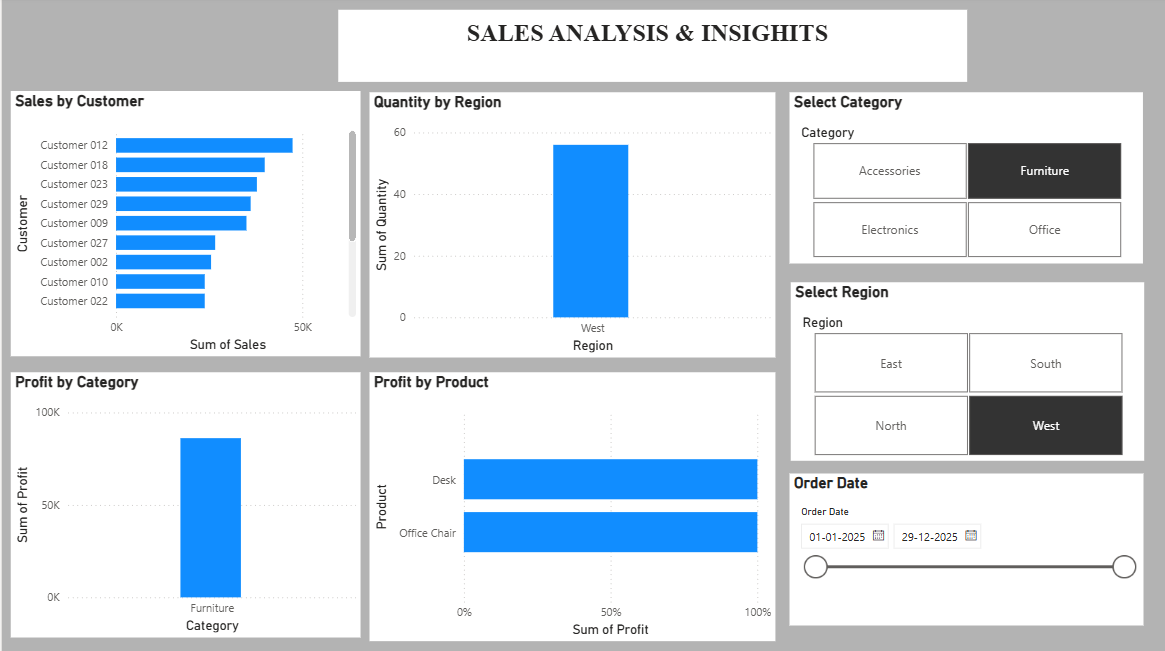

The dashboard page shown, as its layout file describes it:
{"tool":"powerbi","page":{"name":"Page 2","canvas":[1280,720],"ordinal":1},"visuals":[{"type":"clusteredBarChart","title":"Sales by Customer","fields":{"Category":["Sales Data.Customer"],"Y":["Sum(Sales Data.Sales)"]},"box":[9.6,104.3,384.2,290.9],"z":0},{"type":"clusteredColumnChart","title":"Profit by Category","fields":{"Category":["Sales Data.Category"],"Y":["Sum(Sales Data.Profit)"]},"box":[9.6,413,384.2,290.9],"z":1000},{"type":"clusteredColumnChart","title":"Quantity by Region","fields":{"Category":["Sales Data.Region"],"Y":["Sum(Sales Data.Quantity)"]},"box":[403.4,105.7,446,290.9],"z":2000},{"type":"hundredPercentStackedBarChart","title":"Profit by Product","fields":{"Category":["Sales Data.Product"],"Y":["Sum(Sales Data.Profit)"]},"box":[403.4,413,446,295],"z":3000},{"type":"slicer","title":"Select Region","fields":{"Values":["Sales Data.Region"]},"box":[865.9,314.2,388.3,196.2],"z":4000},{"type":"slicer","title":"Select Category","fields":{"Values":["Sales Data.Category"]},"box":[864.5,105.7,388.3,188],"z":5000},{"type":"slicer","title":"Order Date","fields":{"Values":["Sales Data.Order Date"]},"box":[864.5,524.2,388.3,166],"z":6000},{"type":"textbox","box":[369.1,15.1,690.2,79.6],"z":8000}]}

Visuals, with their boxes in screenshot pixels (x1, y1, x2, y2), scaled from the page's 1280x720 canvas onto the 1165x651 screenshot:
"Sales by Customer" clusteredBarChart: locate(9, 94, 358, 357)
"Profit by Category" clusteredColumnChart: locate(9, 373, 358, 636)
"Quantity by Region" clusteredColumnChart: locate(367, 96, 773, 359)
"Profit by Product" hundredPercentStackedBarChart: locate(367, 373, 773, 640)
"Select Region" slicer: locate(788, 284, 1142, 461)
"Select Category" slicer: locate(787, 96, 1140, 266)
"Order Date" slicer: locate(787, 474, 1140, 624)
textbox: locate(336, 14, 964, 86)
